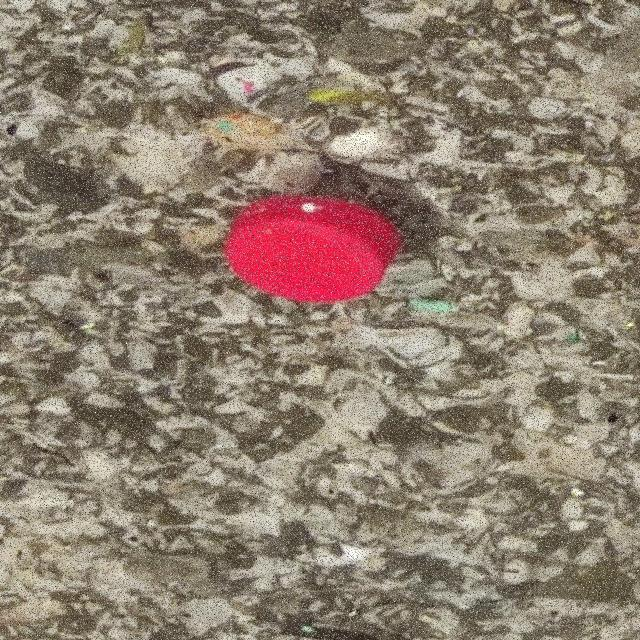plastic_waste: (226, 198, 400, 303)
